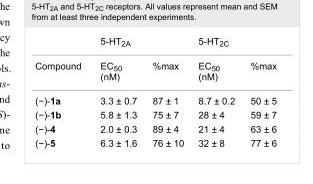table: (34, 35, 276, 147)
table column: (34, 35, 90, 147), (90, 35, 144, 147), (190, 35, 242, 147), (144, 35, 190, 147), (242, 35, 276, 147)
table column header: (34, 35, 276, 88)
table row: (34, 53, 276, 88), (34, 88, 276, 107), (34, 35, 276, 53), (34, 107, 276, 121), (34, 121, 276, 135), (34, 135, 276, 147)
table spanning cell: (34, 35, 90, 88), (90, 35, 190, 53), (190, 35, 276, 53)
